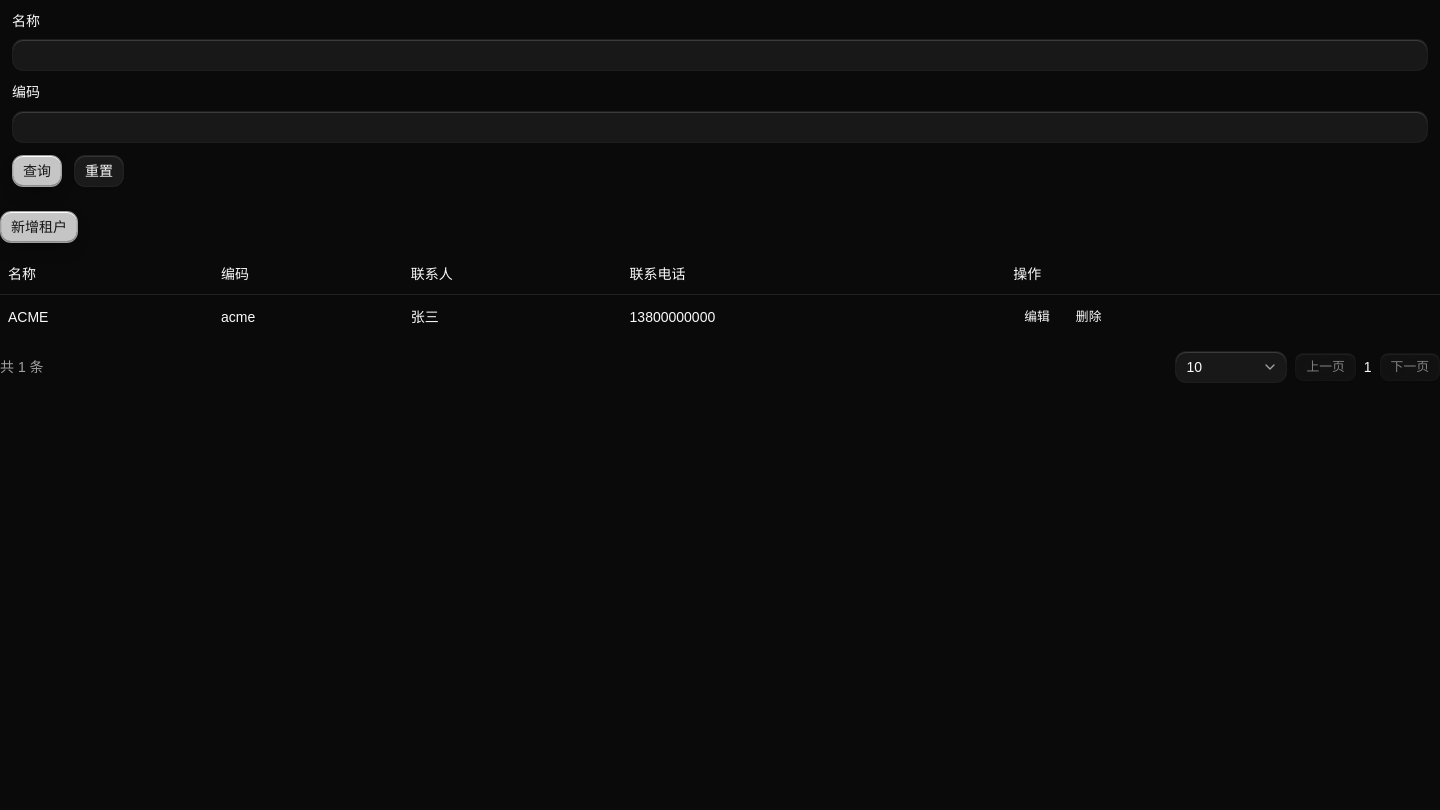
Test: Tenants page › updates tenant without code and with RFC3339 expiry
Later steps or results of the test are not shown.
Expected: the text "ACME" is shown, [0, 294, 213, 339]
Click the button "编辑".
click(1037, 317)  # box [1013, 303, 1061, 331]
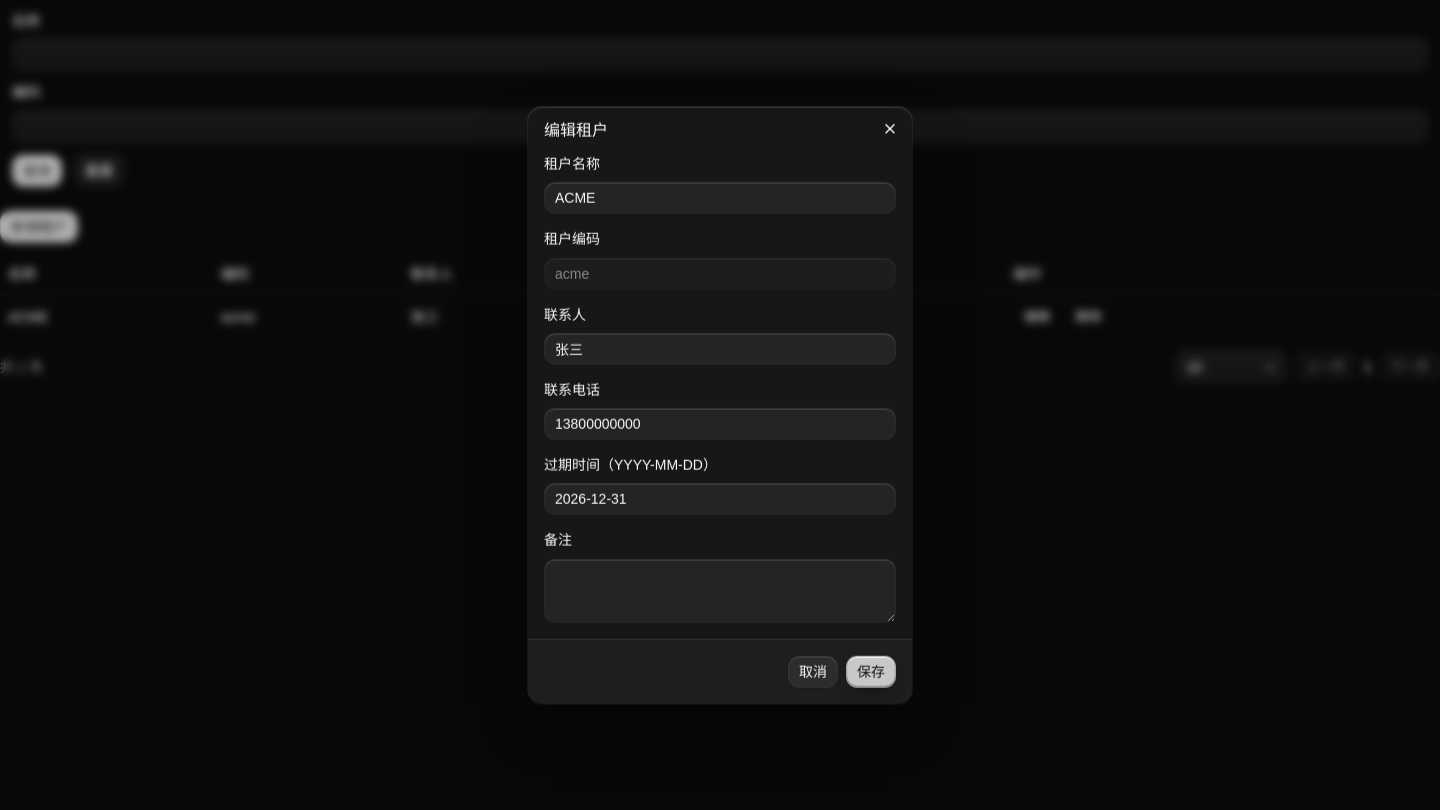
Expected: the field labelled "过期时间（YYYY-MM-DD）" holds "2026-12-31", [544, 483, 896, 515]
